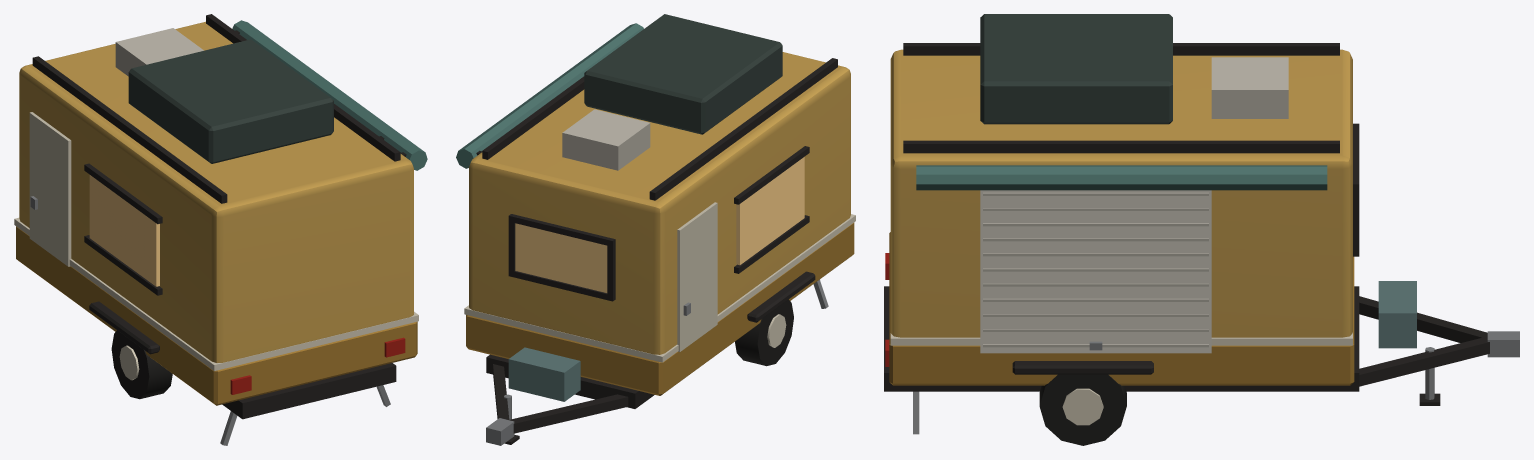
File: camper.glb
3 renders of one model, left to right at view 1: azimuth 30°, elevation 25°; view 2: azimuth 150°, elevation 25°; view 3: azimuth 270°, elevation 25°, orthographic. The views are drawn at different scales.
Parts seen in each view (by area): view 1: camper; view 2: camper; view 3: camper.
Part boxes in pixels (<box>): camper: <box>14,14,427,445</box>; camper: <box>456,14,855,445</box>; camper: <box>884,14,1519,445</box>.
Size of the model in its own units: 2.46 by 2.91 by 4.95.
